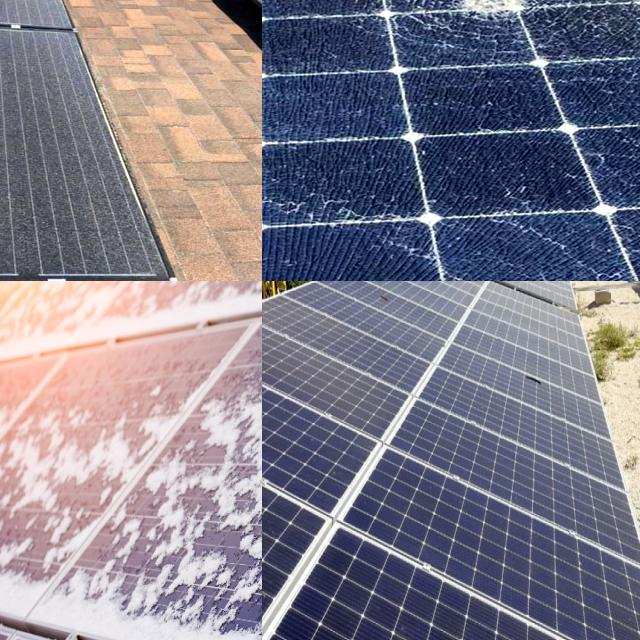crack: (342, 432, 640, 640), (262, 503, 640, 640), (382, 378, 640, 569), (386, 332, 626, 502), (262, 327, 430, 511), (435, 320, 640, 470), (262, 288, 431, 457), (262, 281, 432, 423), (287, 281, 466, 402)
dust: (0, 168, 117, 268), (0, 54, 84, 169), (0, 167, 73, 271), (0, 77, 76, 156), (9, 0, 179, 26), (0, 23, 46, 68), (167, 0, 244, 22), (0, 0, 41, 30), (0, 0, 33, 31), (0, 0, 49, 15), (0, 0, 28, 26)
hotspot: (407, 0, 553, 44)
panel: (104, 549, 213, 640), (9, 477, 120, 562), (182, 460, 262, 538), (116, 481, 200, 554), (39, 553, 120, 628), (46, 418, 154, 471), (144, 281, 246, 330), (202, 387, 262, 462), (41, 281, 126, 327), (197, 585, 262, 640), (0, 567, 62, 613), (221, 550, 262, 606)
